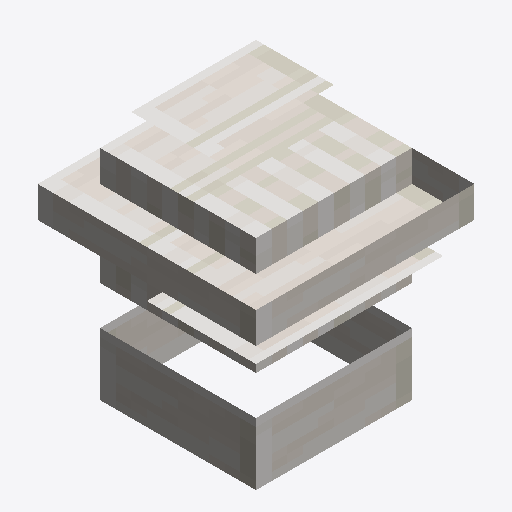
A Minecraft block model of 5 cuboids, rendered isometrically (azimuth 45°, elevation 35.3°) with the resource pack's own textures.
Visible parts, largest first — pillarTop, topTop, topMiddle, topToppest, topBottom.
Part boxes in pixels (bbox=[...]): pillarTop: bbox=[100, 256, 411, 489]; topTop: bbox=[100, 94, 411, 273]; topMiddle: bbox=[38, 148, 473, 345]; topToppest: bbox=[132, 40, 332, 156]; topBottom: bbox=[148, 247, 441, 363].
Size of the model in its own units: 14 by 16 by 14.